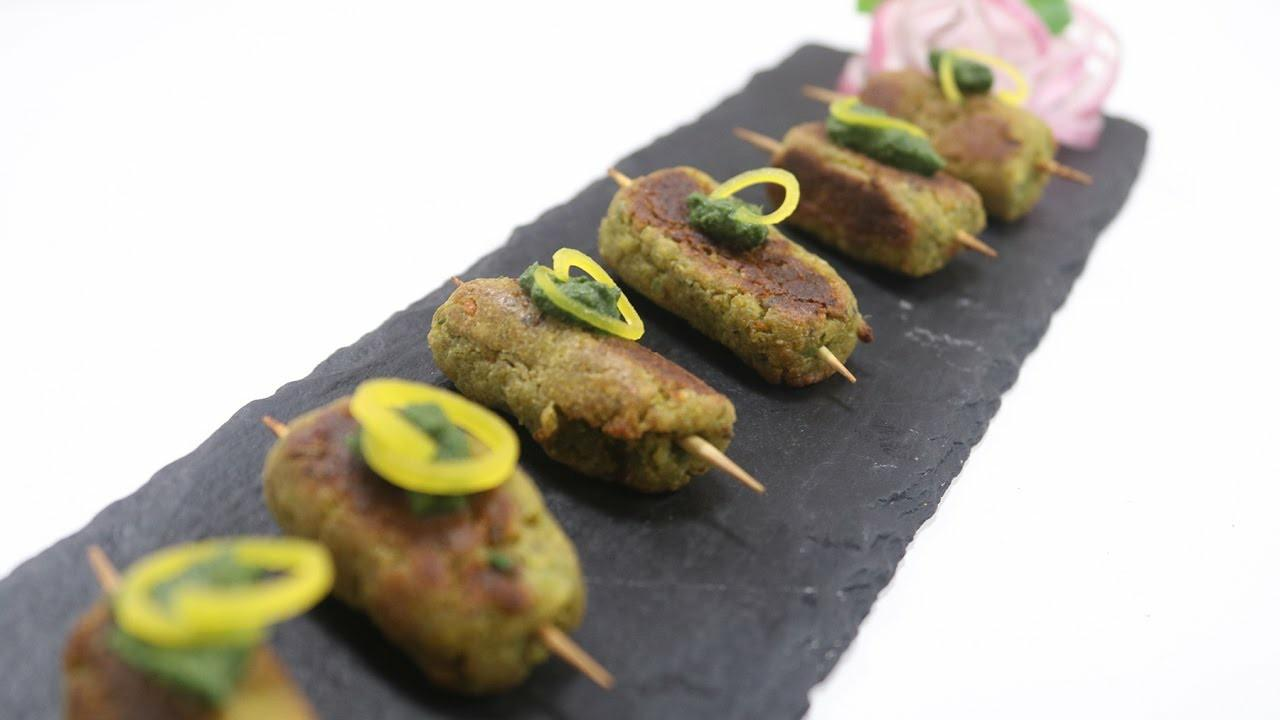Kebab: (264, 390, 584, 697), (428, 276, 733, 492), (599, 167, 870, 385), (769, 116, 986, 276), (859, 69, 1057, 225), (63, 602, 312, 720)
